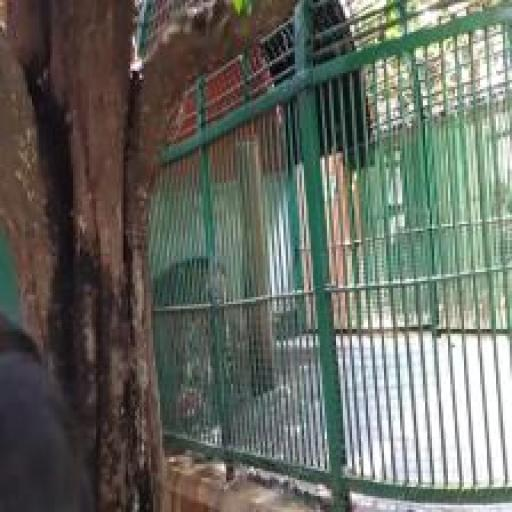Tiger: (148, 258, 246, 406)
